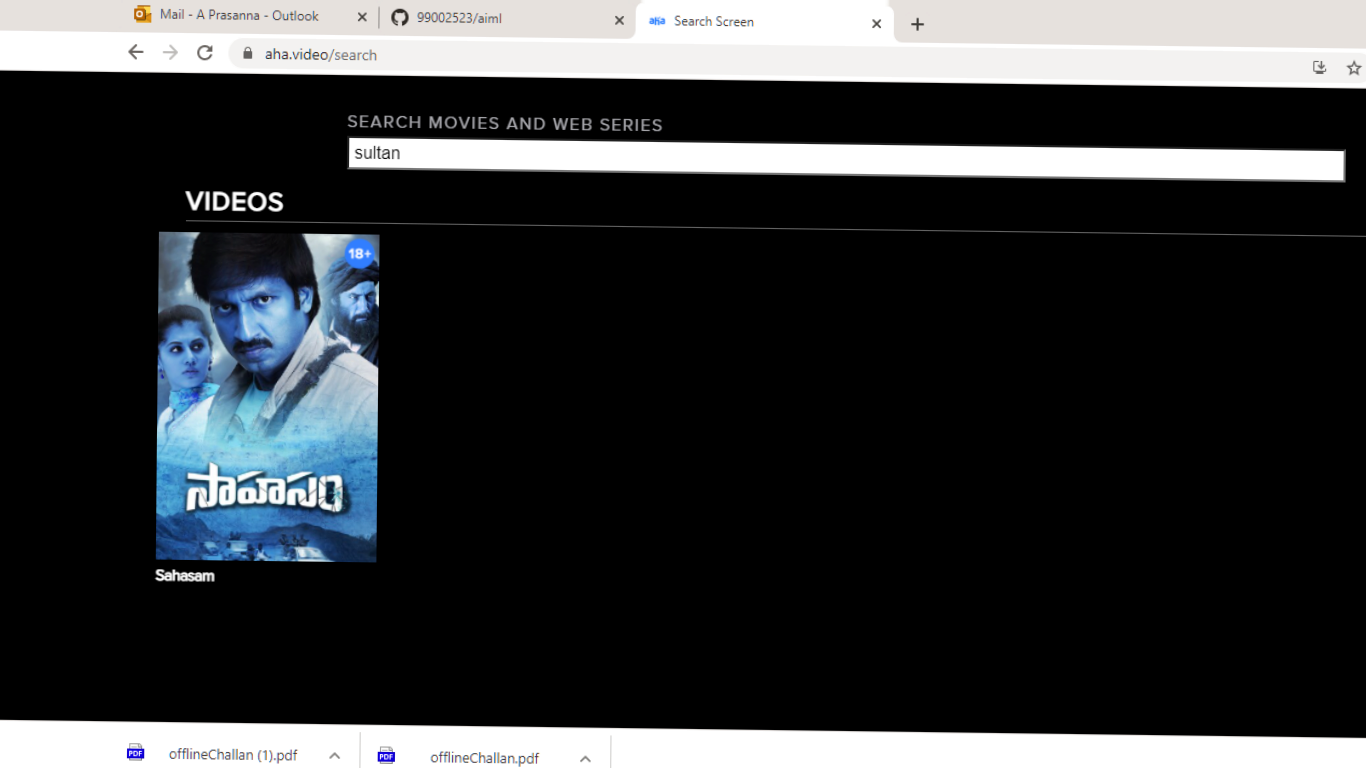resultsfound: (168, 162, 1357, 238)
searchtextbox: (344, 97, 1356, 200)
